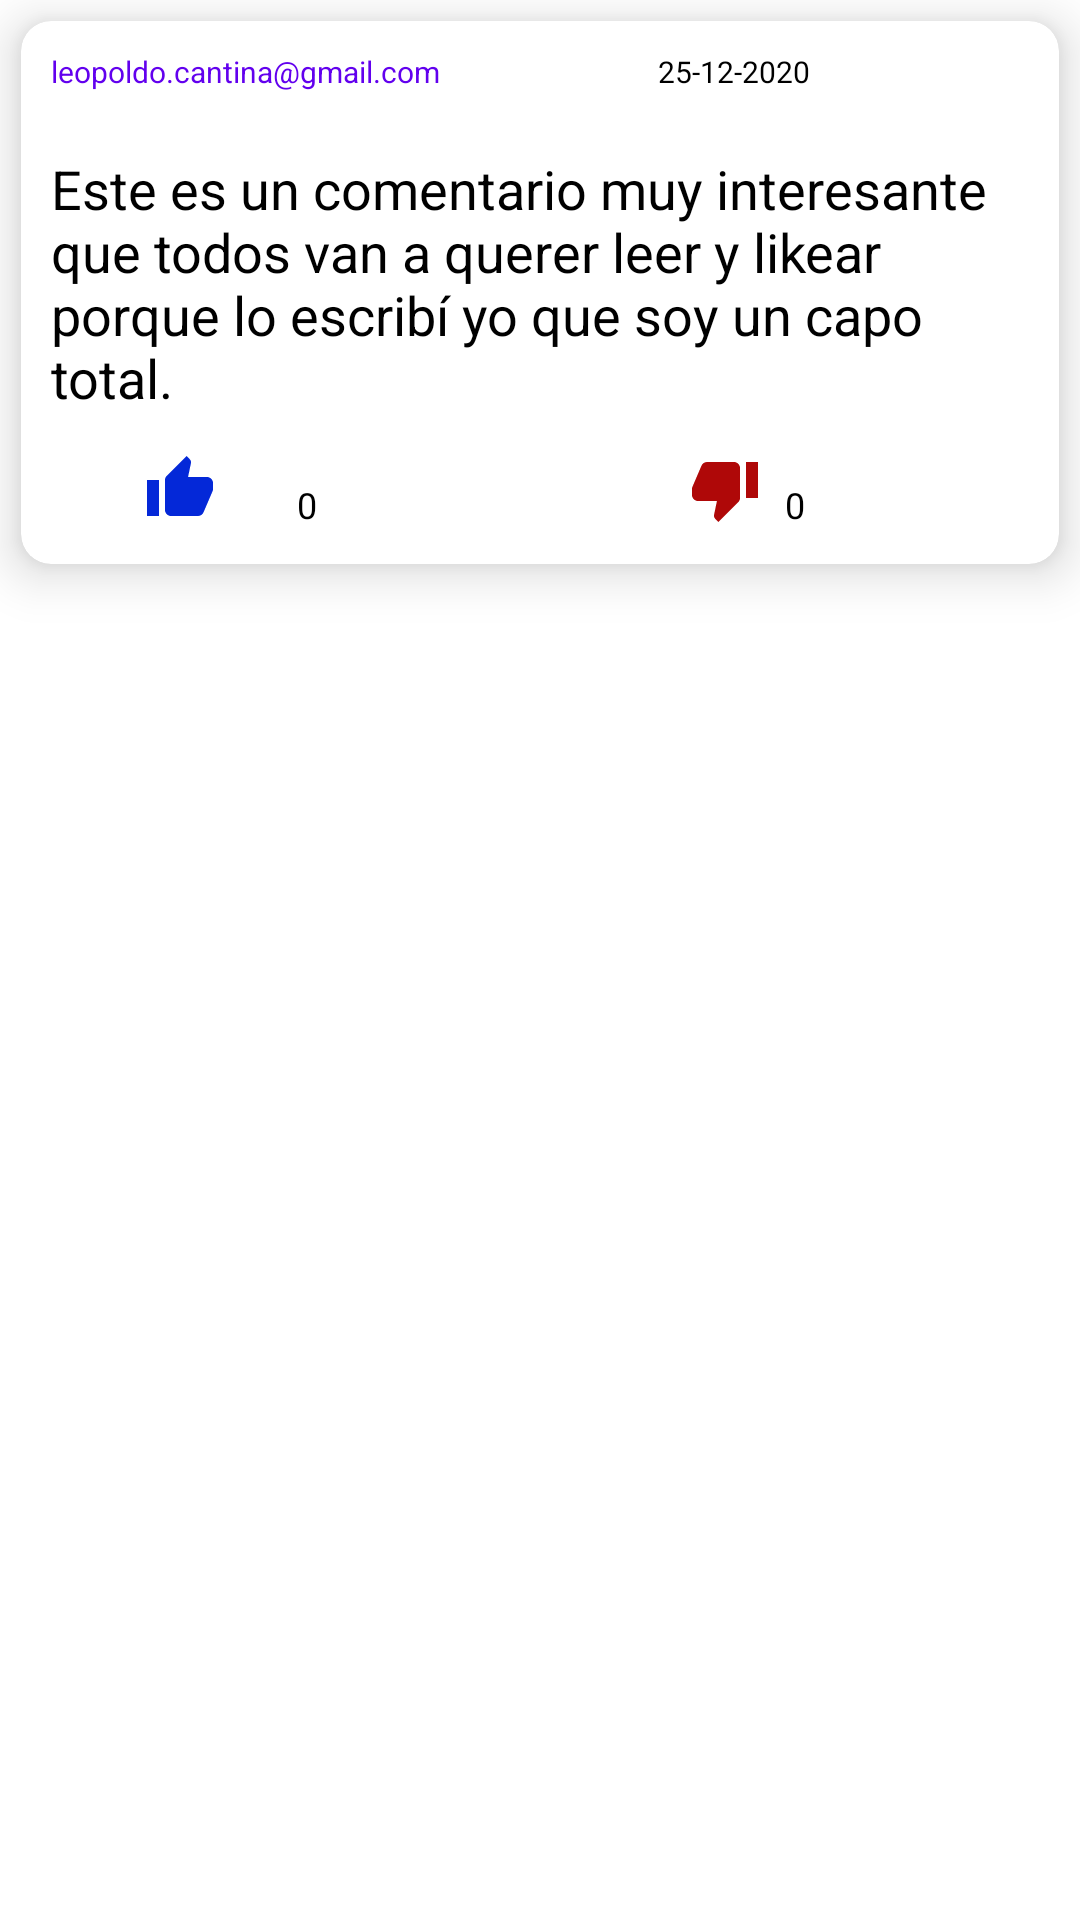

Icons on this 1080 x 1920 Android screen, each with the point to tap as (x=x, y=y):
thumb down: (x=725, y=492)
thumb up: (x=180, y=486)
